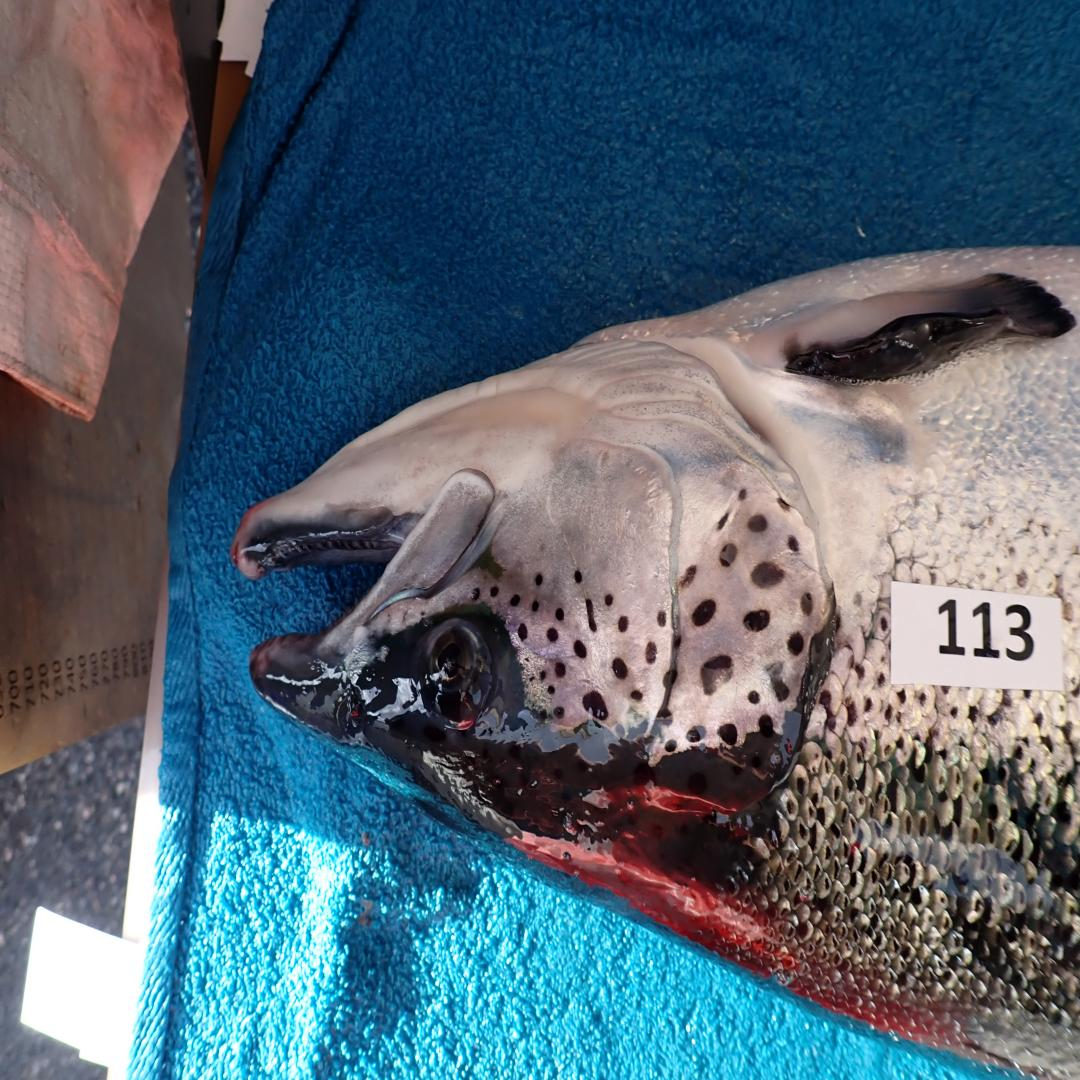roi: (490, 331, 831, 758)
